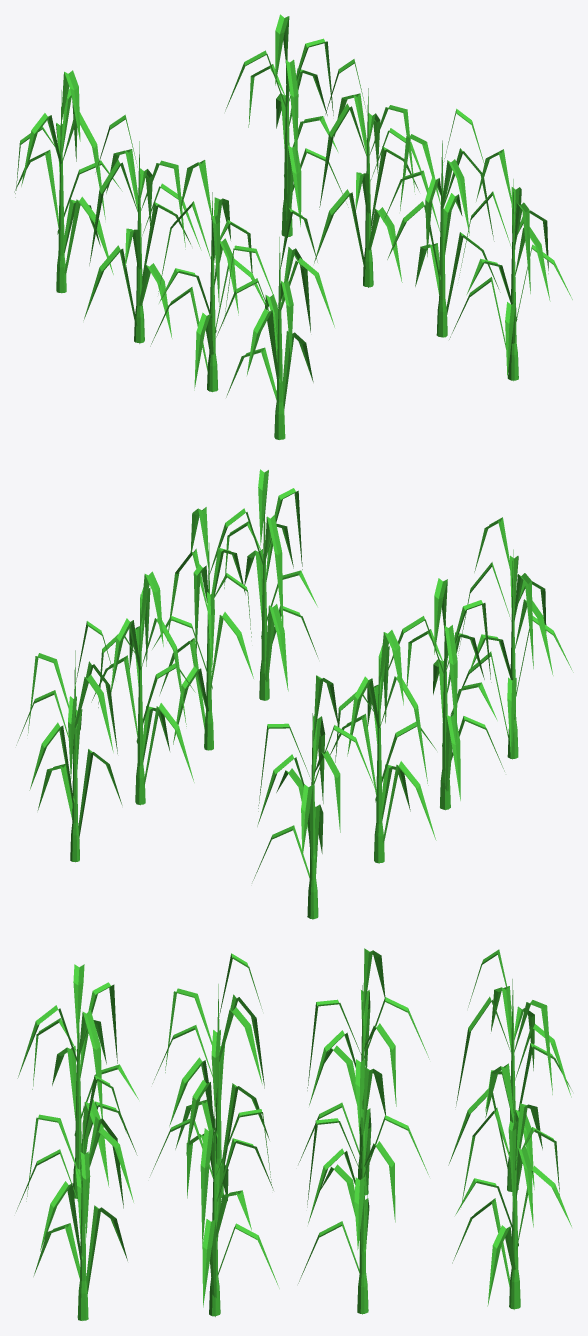
Rendered from rice.glb.
3 renders of one model, top to bottom at view 1: azimuth 30°, elevation 25°; view 2: azimuth 150°, elevation 25°; view 3: azimuth 270°, elevation 25°, orthographic. The views are drawn at different scales.
Visible parts, largest first — view 1: Cube.006; view 2: Cube.006; view 3: Cube.006.
Boxes of the visible parts, x1,y1,x2,y2 form: Cube.006: (14,14,572,439); Cube.006: (16,469,573,919); Cube.006: (16,948,572,1320).
Bounding box in the file's own units: 0.7487 × 0.474 × 0.9946.
